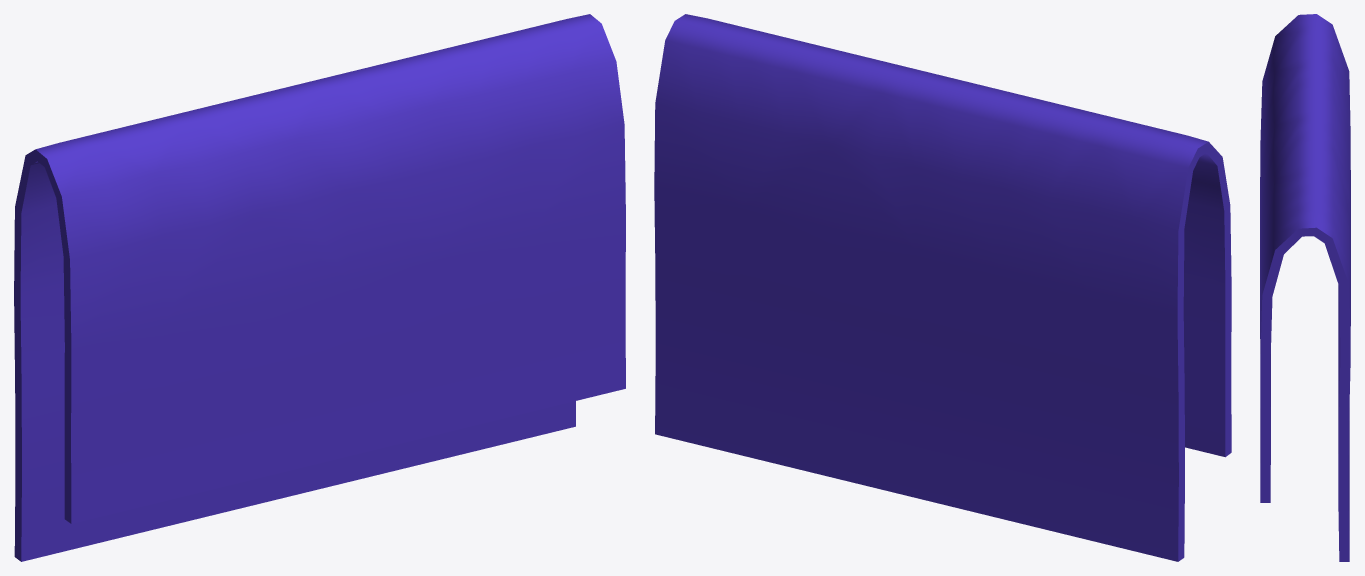
File: towel_long.fbx
The picture shows the model from 3 angles, left to right: view 1: azimuth 30°, elevation 25°; view 2: azimuth 150°, elevation 25°; view 3: azimuth 270°, elevation 25°; orthographic projection. The views are drawn at different scales.
Visible parts, largest first — view 1: loftedSurface2; view 2: loftedSurface2; view 3: loftedSurface2.
Part boxes in pixels (box(x1,y1,x2,y2)): loftedSurface2: box(14, 14, 625, 561); loftedSurface2: box(654, 14, 1231, 561); loftedSurface2: box(1260, 14, 1350, 561).
Bounding box in the file's own units: 1.23 × 0.8968 × 0.2202.
